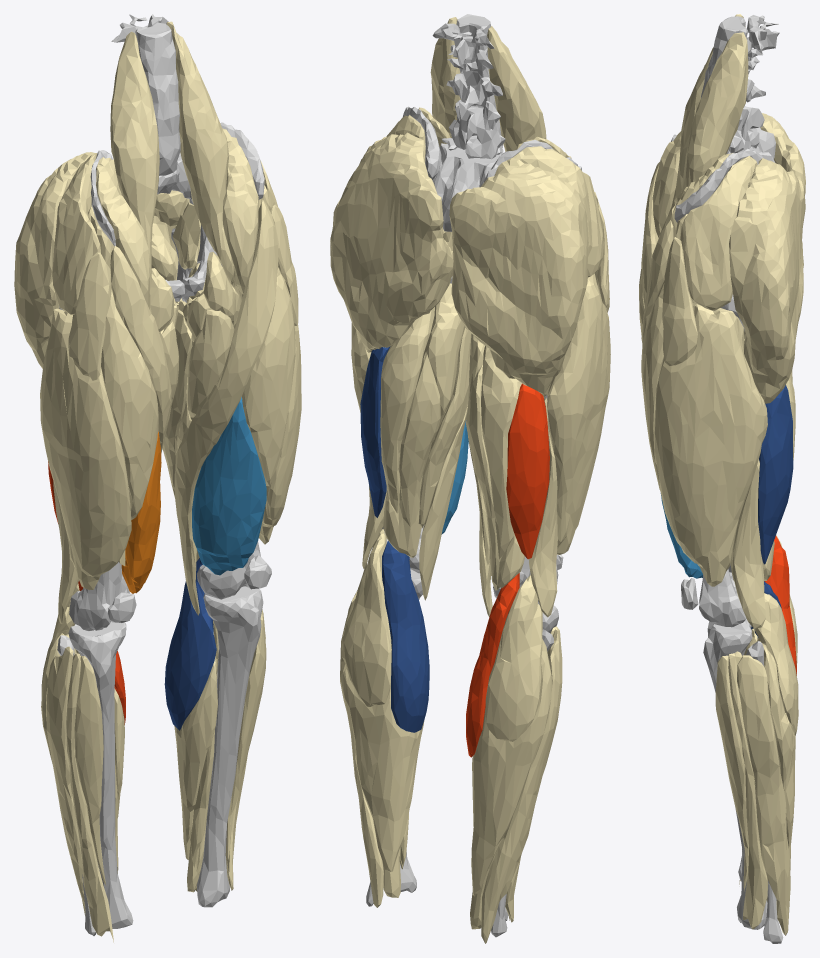
File: Sym1.glb
The picture shows the model from 3 angles, left to right: view 1: azimuth 30°, elevation 25°; view 2: azimuth 150°, elevation 25°; view 3: azimuth 270°, elevation 25°; orthographic projection. The views are drawn at different scales.
Visible parts, largest first — view 1: Proactive_5_vetted_L_adductor_brevis.003; view 2: Proactive_5_vetted_L_adductor_brevis.003; view 3: Proactive_5_vetted_L_adductor_brevis.003.
Boxes of the visible parts, x1,y1,x2,y2 form: Proactive_5_vetted_L_adductor_brevis.003: (14, 14, 301, 942); Proactive_5_vetted_L_adductor_brevis.003: (330, 14, 610, 943); Proactive_5_vetted_L_adductor_brevis.003: (639, 14, 805, 943).
Bounding box in the file's own units: 3.77 × 13.4 × 2.28.
